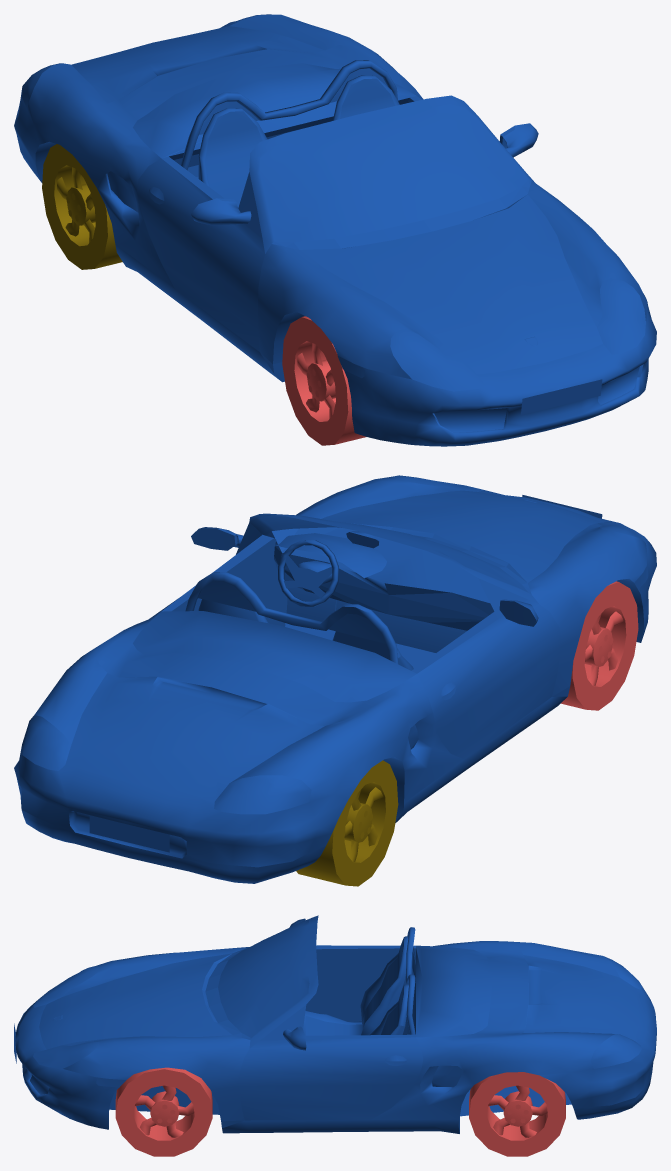
File: porsche2.obj
The picture shows the model from 3 angles, top to bottom: view 1: azimuth 30°, elevation 25°; view 2: azimuth 150°, elevation 25°; view 3: azimuth 270°, elevation 25°; orthographic projection. The views are drawn at different scales.
Parts seen in each view (by area): view 1: Layer0_001, wheel_002, wheel_004; view 2: Layer0_001, wheel_004, wheel_002; view 3: Layer0_001, wheel_001, wheel_003.
Boxes of the visible parts, x1=… form: Layer0_001: x1=14, y1=14, x2=656, y2=446; wheel_002: x1=282, y1=316, x2=365, y2=445; wheel_004: x1=42, y1=144, x2=122, y2=269; Layer0_001: x1=14, y1=475, x2=656, y2=883; wheel_004: x1=296, y1=760, x2=398, y2=886; wheel_002: x1=561, y1=581, x2=638, y2=710; Layer0_001: x1=14, y1=915, x2=656, y2=1133; wheel_001: x1=115, y1=1067, x2=212, y2=1156; wheel_003: x1=469, y1=1072, x2=565, y2=1156.
Bounding box in the file's own units: 66.82 × 39.71 × 146.
